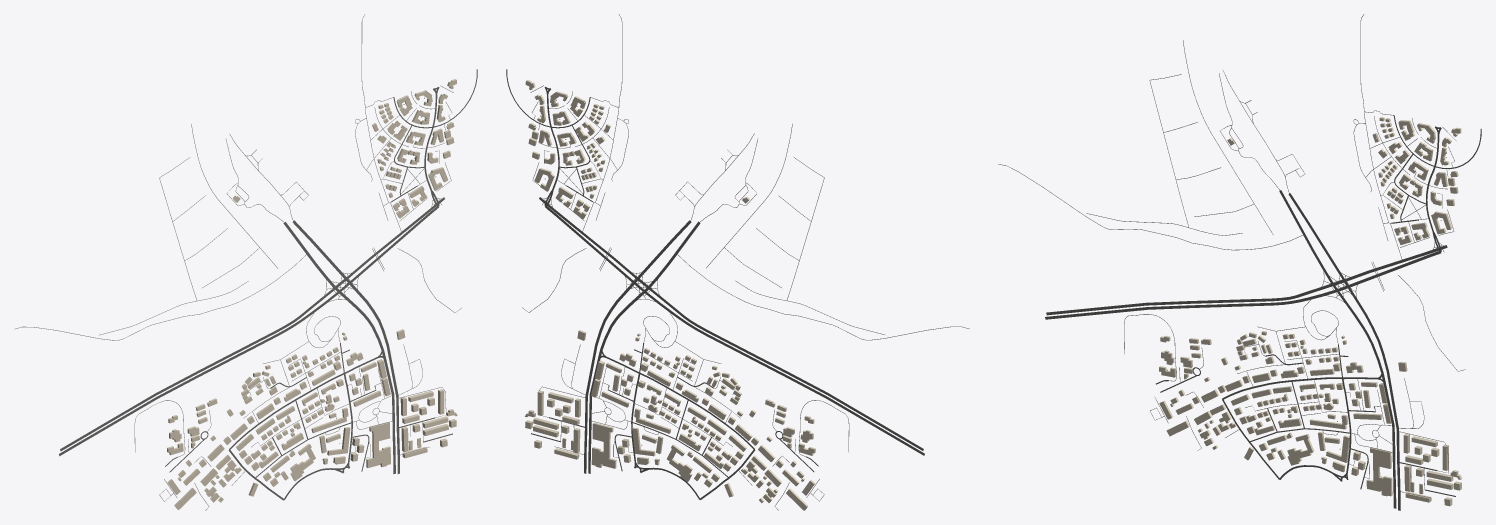
File: historic-palestine-06_18_3479_3127.glb
The picture shows the model from 3 angles, left to right: view 1: azimuth 30°, elevation 25°; view 2: azimuth 150°, elevation 25°; view 3: azimuth 330°, elevation 25°; orthographic projection. The views are drawn at different scales.
Visible parts, largest first — view 1: Road הצדיק מירושלים, Road הצדיק מירושלים.001, Building_.079, Road שדרות יצחק רגר, Road שדרות יצחק רגר.001; view 2: Road הצדיק מירושלים, Road הצדיק מירושלים.001, Building_.079, Road שדרות יצחק רגר.001, Road שדרות יצחק רגר; view 3: Road הצדיק מירושלים, Road הצדיק מירושלים.001, Building_.079, Road שדרות יצחק רגר, Road שדרות יצחק רגר.001.
Part boxes in pixels (x1,y1,x2,y2): Road הצדיק מירושלים: [59, 291, 339, 456]; Road הצדיק מירושלים.001: [60, 288, 335, 451]; Building_.079: [366, 422, 390, 467]; Road שדרות יצחק רגר: [345, 296, 395, 474]; Road שדרות יצחק רגר.001: [358, 292, 399, 473]; Road הצדיק מירושלים: [644, 291, 924, 455]; Road הצדיק מירושלים.001: [649, 287, 923, 450]; Building_.079: [591, 422, 616, 468]; Road שדרות יצחק רגר.001: [584, 292, 625, 473]; Road שדרות יצחק רגר: [588, 296, 638, 473]; Road הצדיק מירושלים: [1045, 290, 1336, 319]; Road הצדיק מירושלים.001: [1046, 284, 1332, 315]; Building_.079: [1366, 447, 1392, 496]; Road שדרות יצחק רגר: [1343, 299, 1396, 508]; Road שדרות יצחק רגר.001: [1356, 301, 1400, 510].
Size of the model in its own units: 1496 by 1444 by 13.6.
